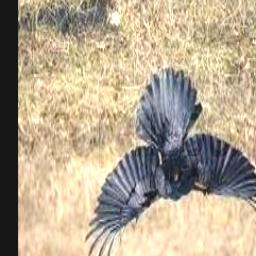Crow: (83, 69, 256, 256)
